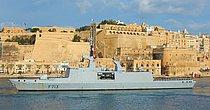MIL_Ship: (8, 51, 196, 91)
